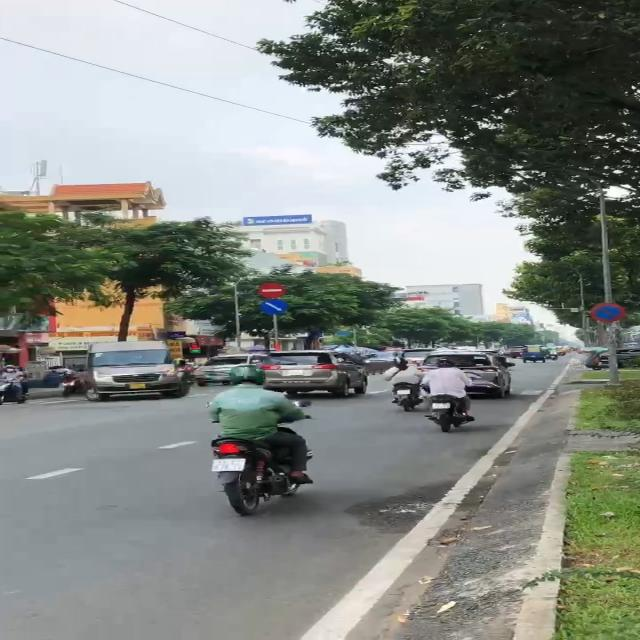Bien bao cam di nguoc chieu: (257, 282, 288, 299)
Bien bao huong phai di vong chuong ngai vat: (256, 298, 289, 316)
